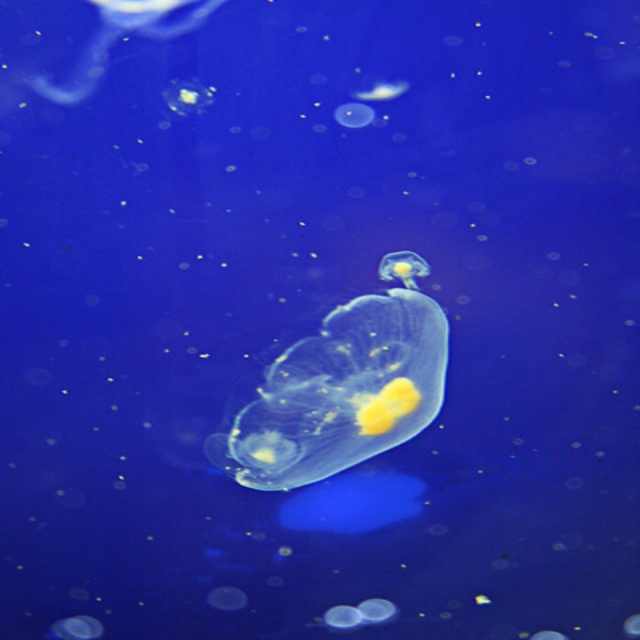Jellyfish: (222, 277, 464, 495)
